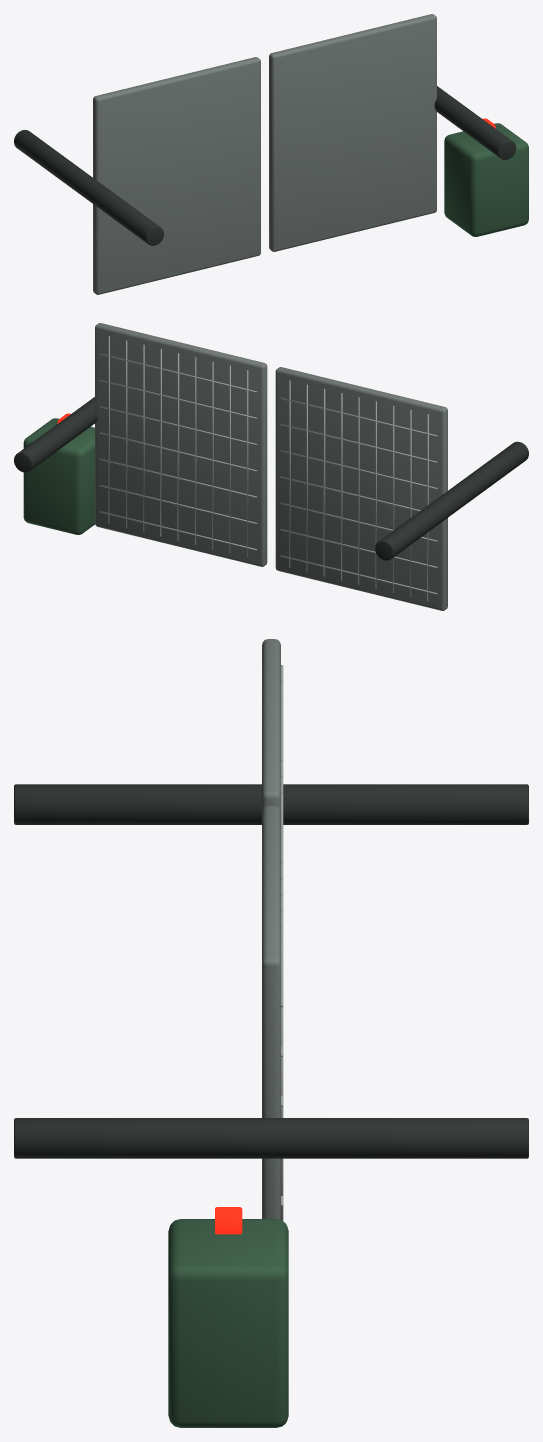
Rendered from perimeter_gate.glb.
3 renders of one model, top to bottom at view 1: azimuth 30°, elevation 25°; view 2: azimuth 150°, elevation 25°; view 3: azimuth 270°, elevation 25°, orthographic. The views are drawn at different scales.
Parts seen in each view (by area): view 1: GateFrame1, GateFrame-1, GateMotor, GatePost-1, GatePost1; view 2: GateFrame1, GateFrame-1, GateMotor, GatePost-1, GatePost1, GateWire_1_4, GateWire_-1_6, GateWire_-1_7, GateWire_1_1, GateWire_1_2, GateWire_1_5, GateWire_-1_4 (+8 smaller); view 3: GateMotor, GatePost1, GatePost-1, GateFrame1, GateFrame-1.
Part boxes in pixels (x1=…): GateFrame1: x1=269, y1=14, x2=436, y2=251; GateFrame-1: x1=93, y1=57, x2=260, y2=294; GateMotor: x1=444, y1=123, x2=528, y2=236; GatePost-1: x1=14, y1=130, x2=163, y2=245; GatePost1: x1=434, y1=86, x2=516, y2=159; GateFrame1: x1=95, y1=323, x2=267, y2=566; GateFrame-1: x1=275, y1=367, x2=447, y2=610; GateMotor: x1=23, y1=418, x2=94, y2=534; GatePost-1: x1=375, y1=441, x2=528, y2=560; GatePost1: x1=14, y1=397, x2=97, y2=472; GateWire_1_4: x1=177, y1=353, x2=179, y2=540; GateWire_-1_6: x1=323, y1=388, x2=325, y2=576; GateWire_-1_7: x1=306, y1=384, x2=307, y2=572; GateWire_1_1: x1=229, y1=365, x2=230, y2=553; GateWire_1_2: x1=212, y1=361, x2=213, y2=549; GateWire_1_5: x1=160, y1=349, x2=161, y2=536; GateWire_-1_4: x1=358, y1=397, x2=359, y2=584; GateMotor: x1=168, y1=1219, x2=288, y2=1427; GatePost1: x1=14, y1=1118, x2=528, y2=1158; GatePost-1: x1=14, y1=784, x2=528, y2=824; GateFrame1: x1=262, y1=806, x2=280, y2=1219; GateFrame-1: x1=262, y1=639, x2=280, y2=811.
Size of the model in its own units: 5.55 by 2.61 by 3.
